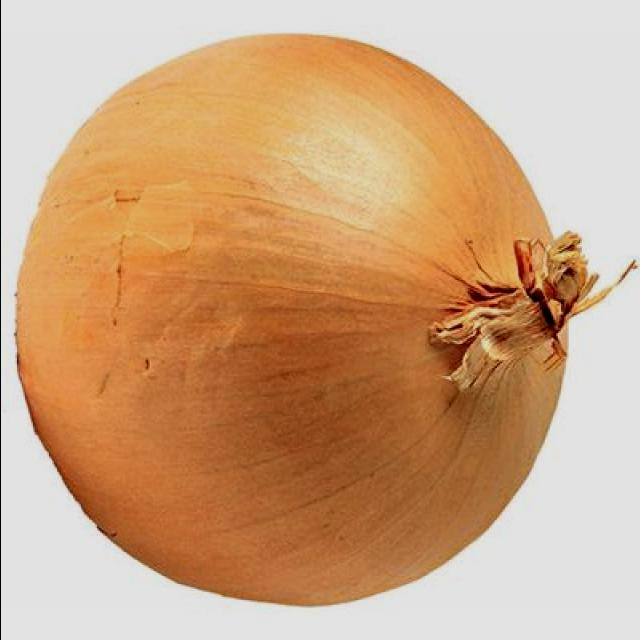onion: (14, 34, 597, 608)
